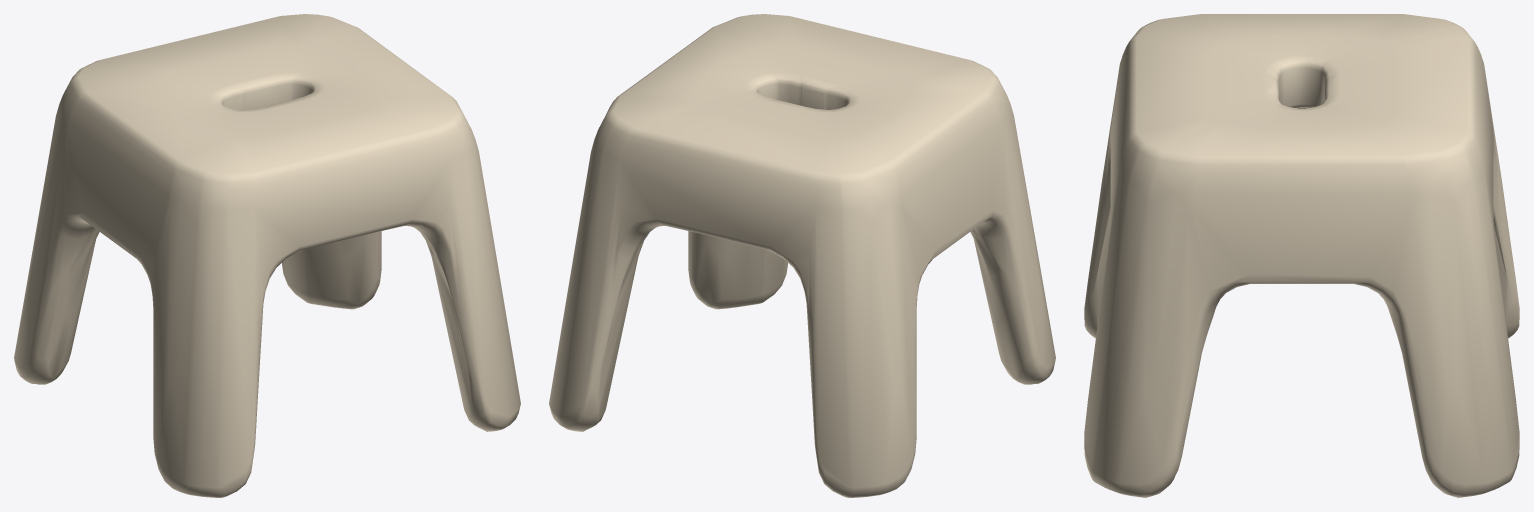
Rendered from bath_stool.glb.
3 renders of one model, left to right at view 1: azimuth 30°, elevation 25°; view 2: azimuth 150°, elevation 25°; view 3: azimuth 270°, elevation 25°, orthographic. The views are drawn at different scales.
Visible parts, largest first — view 1: bath_stool; view 2: bath_stool; view 3: bath_stool.
Part boxes in pixels (<box>): bath_stool: <box>14,14,520,497</box>; bath_stool: <box>549,14,1055,497</box>; bath_stool: <box>1084,14,1519,497</box>.
Bounding box in the file's own units: 0.36 × 0.3 × 0.36.
